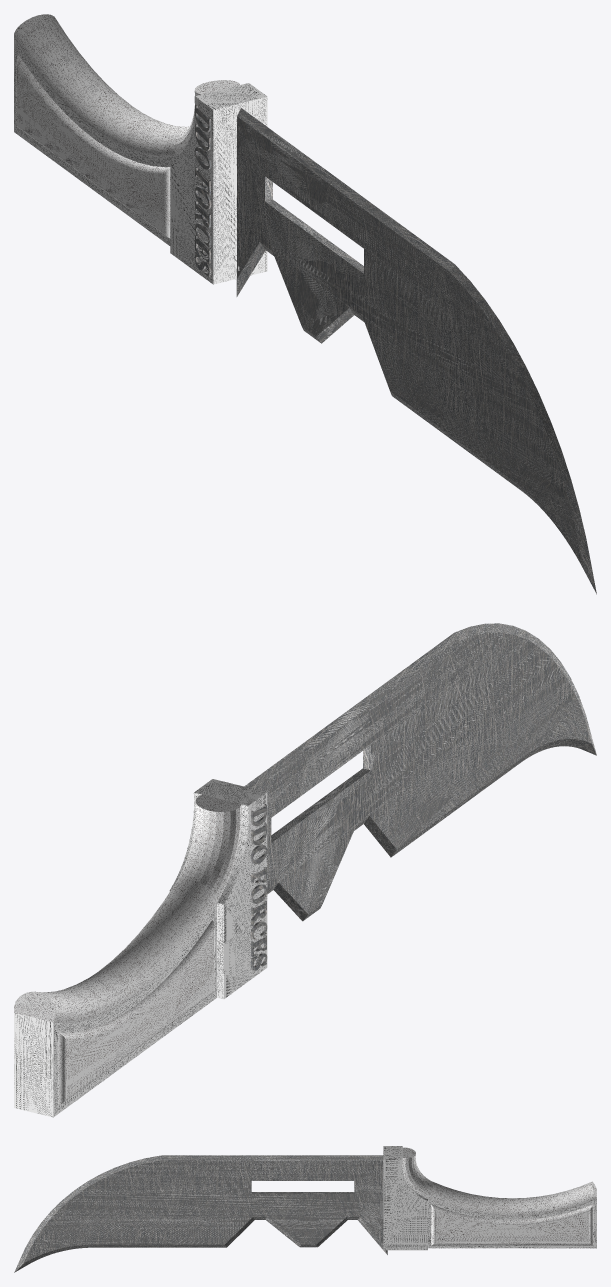
File: model_scale.obj
The picture shows the model from 3 angles, top to bottom: view 1: azimuth 30°, elevation 25°; view 2: azimuth 150°, elevation 25°; view 3: azimuth 270°, elevation 25°; orthographic projection. The views are drawn at different scales.
Visible parts, largest first — view 1: mesh14_mesh14-geometry; view 2: mesh14_mesh14-geometry; view 3: mesh14_mesh14-geometry.
Boxes of the visible parts, bbox=[...] form: mesh14_mesh14-geometry: bbox=[14, 14, 596, 594]; mesh14_mesh14-geometry: bbox=[14, 623, 596, 1117]; mesh14_mesh14-geometry: bbox=[14, 1146, 596, 1272].
Bounding box in the file's own units: 0.0132 × 0.0517 × 0.2278.
4 materials, 3 textured.
